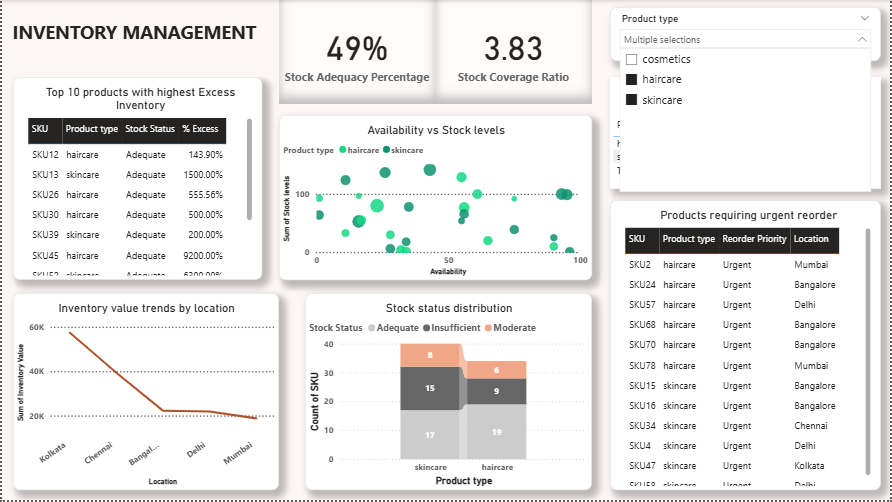

The dashboard page shown, as its layout file describes it:
{"tool":"powerbi","page":{"name":"INVENTORY MANAGEMENT PAGE","canvas":[1280,720],"ordinal":1},"visuals":[{"type":"tableEx","title":"Top 10 products with highest Excess Inventory ","fields":{"Values":["supply_chain_data_csv.SKU","supply_chain_data_csv.Product type","supply_chain_data_csv.Stock Status","supply_chain_data_csv.inventory gap %"]},"box":[15.8,110.9,358.6,292.3],"z":0},{"type":"lineChart","title":"Inventory value trends by location","fields":{"Category":["supply_chain_data_csv.Location"],"Y":["Sum(supply_chain_data_csv.Inventory Value)"]},"box":[15.8,421.9,383,283.7],"z":1000},{"type":"columnChart","title":"Stock status distribution ","fields":{"Category":["supply_chain_data_csv.Product type"],"Y":["CountNonNull(supply_chain_data_csv.SKU)"],"Series":["supply_chain_data_csv.Stock Status"]},"box":[436.3,421.9,413.3,283.7],"z":2000},{"type":"tableEx","title":"Products requiring urgent reorder","fields":{"Values":["supply_chain_data_csv.SKU","supply_chain_data_csv.Product type","supply_chain_data_csv.Reorder Priority","supply_chain_data_csv.Location"]},"box":[875.5,288,390.2,417.6],"z":3000},{"type":"pivotTable","title":"Stock Coverage Ratio by Product Type and Location","fields":{"Rows":["supply_chain_data_csv.Product type"],"Columns":["supply_chain_data_csv.Location"],"Values":["Avg(supply_chain_data_csv.Stock Coverage Ratio)"]},"box":[875.5,110.9,390.2,161.3],"z":4000},{"type":"scatterChart","title":"Availability vs Stock levels ","fields":{"X":["supply_chain_data_csv.Availability"],"Y":["Sum(supply_chain_data_csv.Stock levels)"],"Series":["supply_chain_data_csv.Product type"],"Size":["Sum(supply_chain_data_csv.Revenue generated)"]},"box":[398.9,165.6,450.7,237.6],"z":5000},{"type":"textbox","box":[0,0,388.8,110.9],"z":6000},{"type":"slicer","fields":{"Values":["supply_chain_data_csv.Product type"]},"box":[875.5,10.1,390.2,77.8],"z":7000},{"type":"card","fields":{"Values":["supply_chain_data_csv.Stock Adequacy %"]},"box":[398.9,0,224.6,149.8],"z":8000},{"type":"card","fields":{"Values":["Avg(supply_chain_data_csv.Stock Coverage Ratio)"]},"box":[623.5,0,226.1,149.8],"z":9000}]}

Visuals, with their boxes on the page's 1280x720 design canvas (x1, y1, x2, y2). These are canvas units, not pixel positions in the 892x502 screenshot, which may show the page scaled, cropped or inside an application window:
"Top 10 products with highest Excess Inventory " tableEx: [x1=16, y1=111, x2=374, y2=403]
"Inventory value trends by location" lineChart: [x1=16, y1=422, x2=399, y2=706]
"Stock status distribution " columnChart: [x1=436, y1=422, x2=850, y2=706]
"Products requiring urgent reorder" tableEx: [x1=876, y1=288, x2=1266, y2=706]
"Stock Coverage Ratio by Product Type and Location" pivotTable: [x1=876, y1=111, x2=1266, y2=272]
"Availability vs Stock levels " scatterChart: [x1=399, y1=166, x2=850, y2=403]
textbox: [x1=0, y1=0, x2=389, y2=111]
slicer - supply_chain_data_csv.Product type: [x1=876, y1=10, x2=1266, y2=88]
card - supply_chain_data_csv.Stock Adequacy %: [x1=399, y1=0, x2=624, y2=150]
card - Avg(supply_chain_data_csv.Stock Coverage Ratio): [x1=624, y1=0, x2=850, y2=150]
